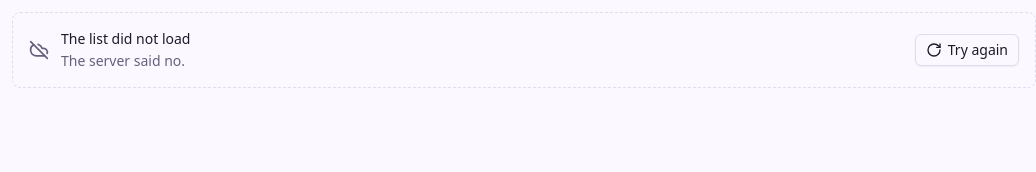
QueryState › shows its skeleton, then the failure with a retry, then the answer the retry brings
Later steps or results of the test are not shown.
Expected: the message shows "The list did not load", [61,29,190,48]
Expected: the message shows "The server said no.", [61,51,185,70]
Click the button "Try again": (967, 50) [915,34,1019,66]
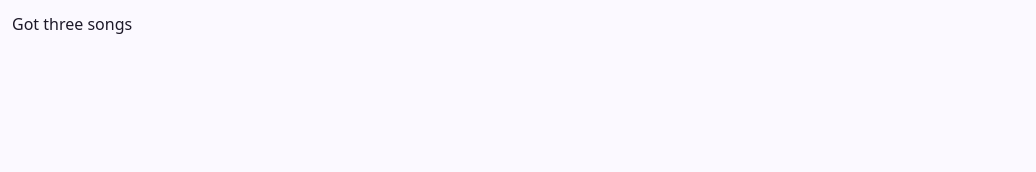
Expected: the text "Got three songs" is shown, [12,13,132,35]
Expected: the message "The list did not load The server said no. Try again" is gone
